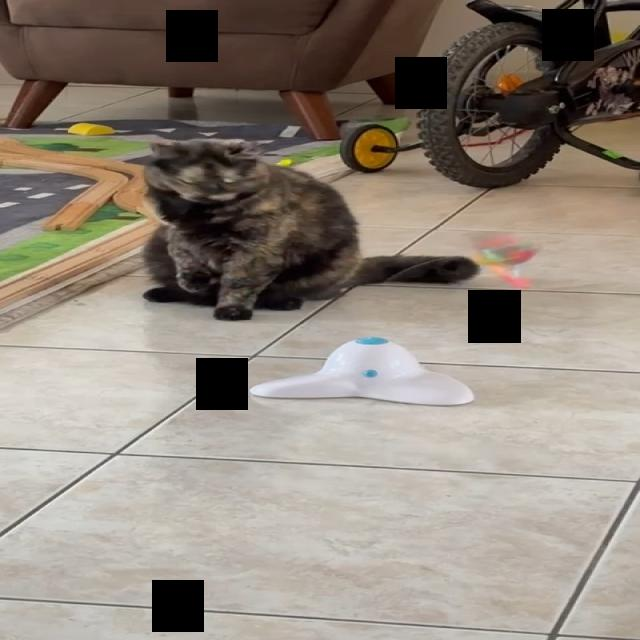authorized: (139, 137, 480, 320)
